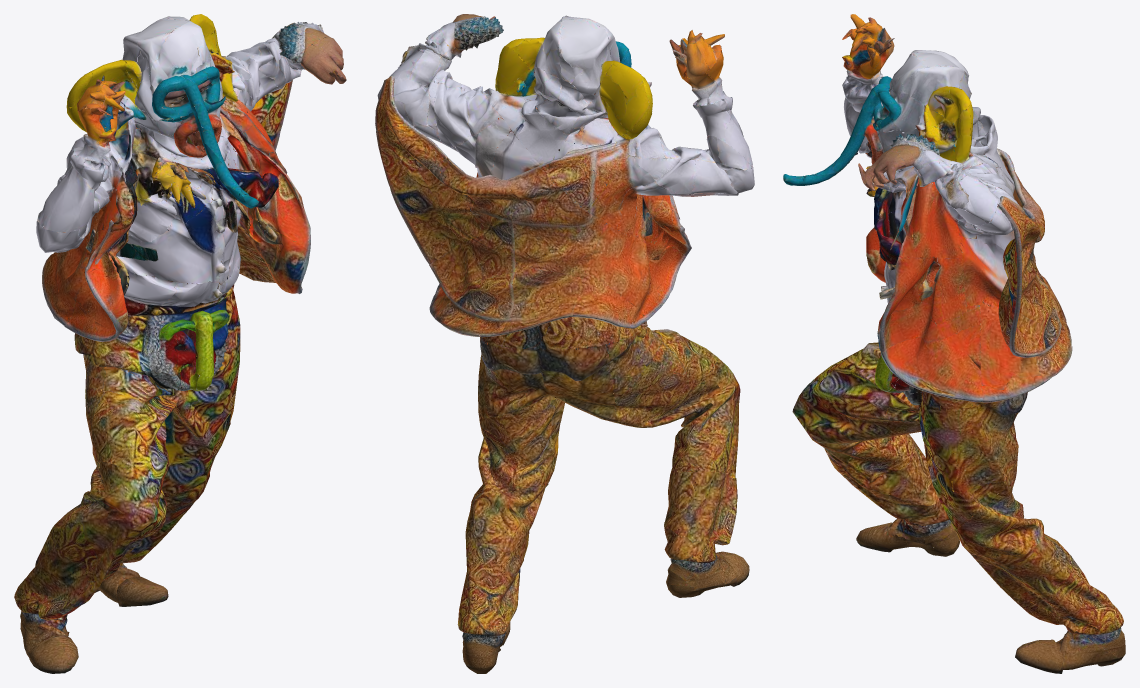
File: marimonda.glb
3 views of the same model, side by side, from view 1: azimuth 30°, elevation 25°; view 2: azimuth 150°, elevation 25°; view 3: azimuth 270°, elevation 25° (orthographic). The views are drawn at different scales.
Visible parts, largest first — view 1: mesh_node; view 2: mesh_node; view 3: mesh_node.
Part boxes in pixels (x1,y1,x2,y2): mesh_node: (14,14,346,673); mesh_node: (375,14,754,673); mesh_node: (783,14,1125,673).
Bounding box in the file's own units: 1.06 × 1.9 × 0.9847.
1 material, 1 textured.
